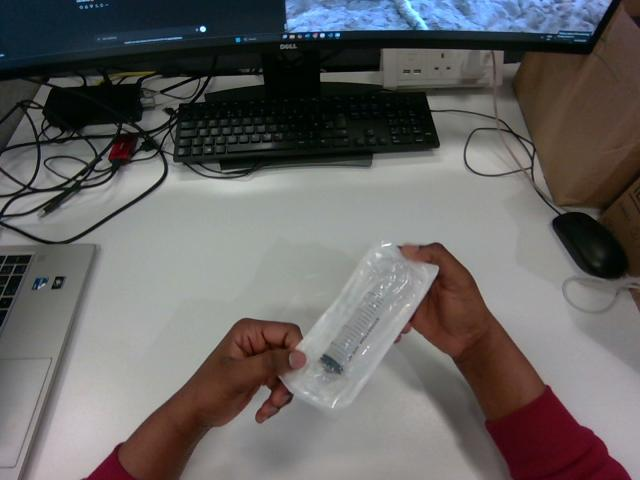syringe: (281, 242, 437, 412)
